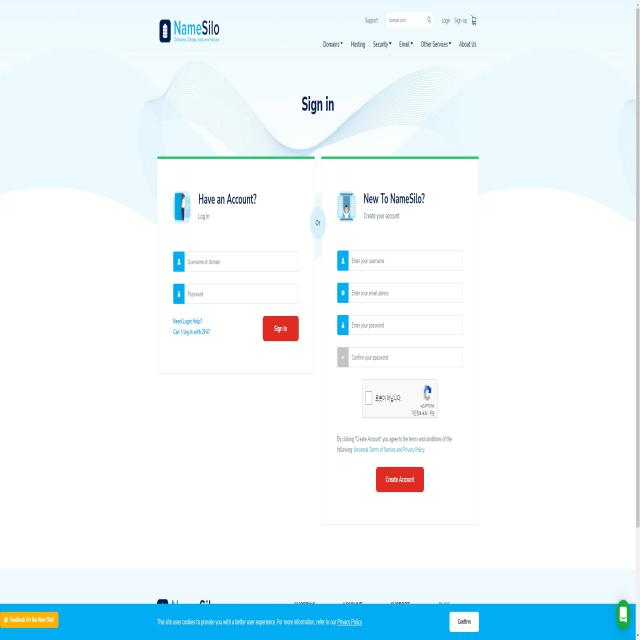menu-bar: (365, 4, 481, 30)
search: (383, 9, 433, 31)
tab-bar: (319, 36, 483, 54)
